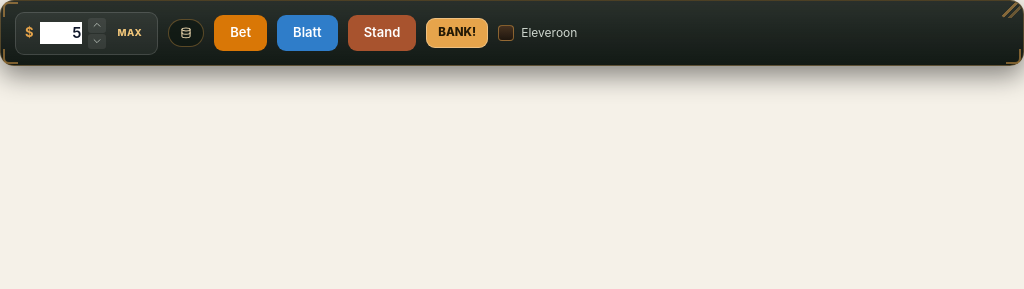
Test case: PlayerDock quick-bet chips › adds on every tap after the first -- $25 twice is $50
Click the button named "Quick-bet amounts" at [186, 33], box [168,19,204,47]
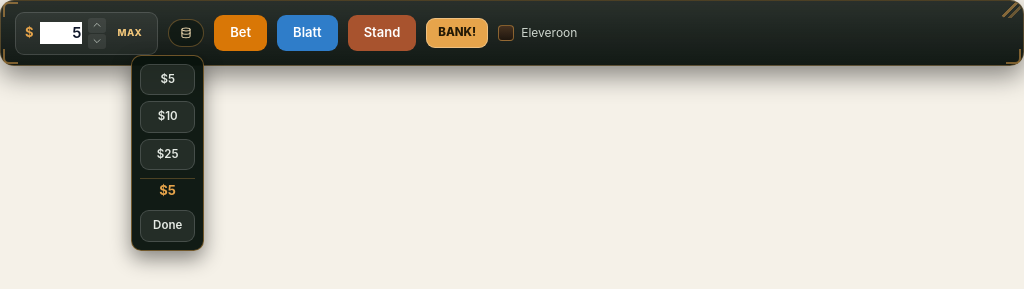
Click the menu item named "Add $25 to the bet" at [168, 154], box [140,138,195,170]
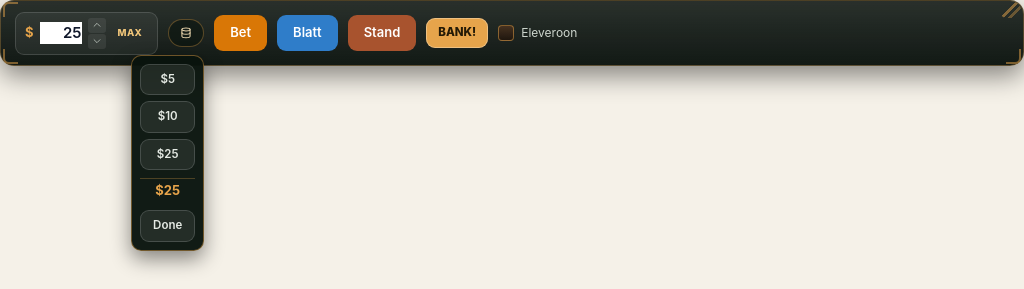
Click the menu item named "Add $25 to the bet" at [168, 154], box [140,138,195,170]
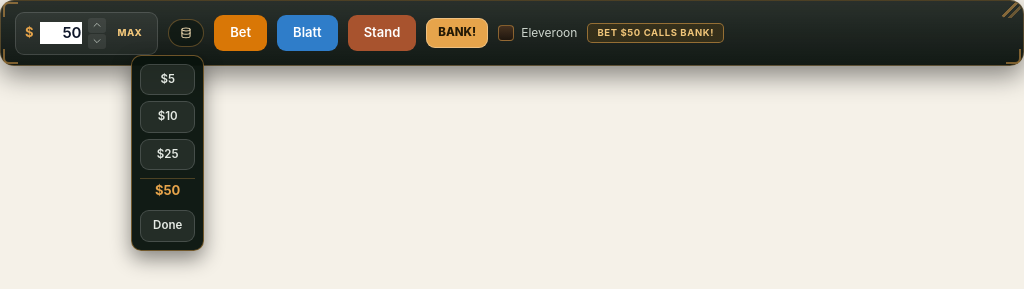
Result: the number field named "Bet amount" holds "50" at [40,22,82,44]
